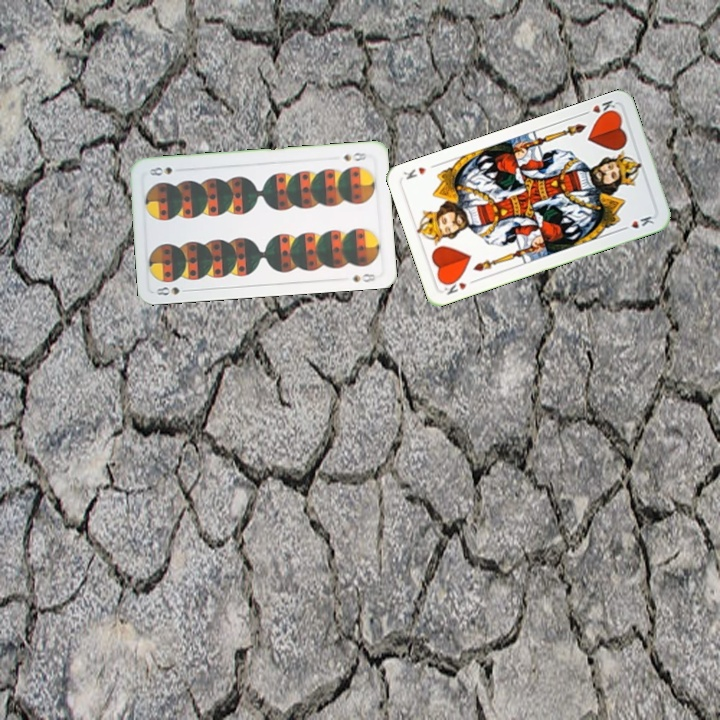HK: (578, 96, 620, 120), (440, 274, 479, 297)
S8: (152, 283, 193, 298), (339, 148, 370, 164)
